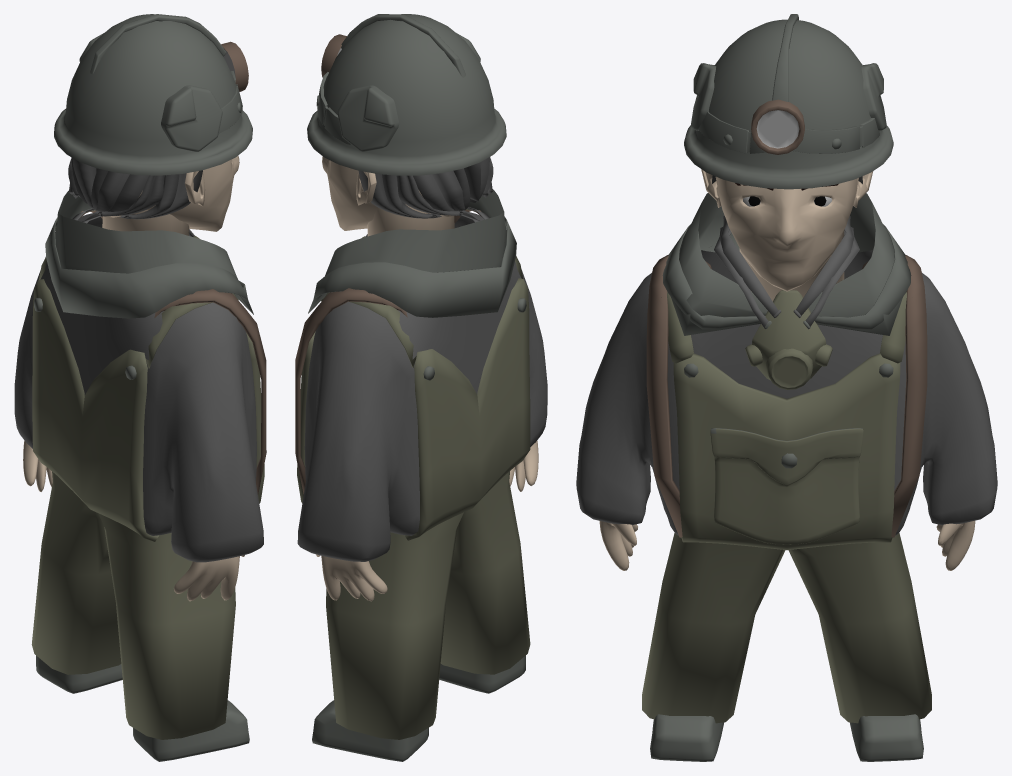
Rendered from character7.fbx.
3 views of the same model, side by side, from view 1: azimuth 30°, elevation 25°; view 2: azimuth 150°, elevation 25°; view 3: azimuth 270°, elevation 25° (orthographic). The views are drawn at different scales.
Parts seen in each view (by area): view 1: Cube.010, Cube.012, Sphere.002, Cube.009, Plane.010, Plane.006, Cube.011, Circle.008, Cube.022, Cube.016, Object_low, BezierCurve.010 (+10 smaller); view 2: Cube.010, Cube.012, Sphere.002, Cube.009, Plane.010, Plane.006, Cube.011, Circle.008, Cube.022, Cube.016, Object_low, BezierCurve.010 (+10 smaller); view 3: Cube.012, Cube.010, Cube.009, Sphere.002, Cube.015, Cube.016, Plane.006, Object_low, Cube.011, Plane.010, Sphere.004, Cube.025 (+8 smaller).
Boxes of the visible parts, x1=… form: Cube.010: x1=14, y1=212, x2=263, y2=562; Cube.012: x1=31, y1=471, x2=235, y2=739; Sphere.002: x1=54, y1=14, x2=252, y2=175; Cube.009: x1=32, y1=279, x2=264, y2=541; Plane.010: x1=45, y1=217, x2=247, y2=318; Plane.006: x1=55, y1=190, x2=253, y2=314; Cube.011: x1=36, y1=655, x2=249, y2=761; Circle.008: x1=79, y1=33, x2=222, y2=151; Cube.022: x1=23, y1=440, x2=244, y2=601; Cube.016: x1=79, y1=210, x2=266, y2=494; Object_low: x1=107, y1=156, x2=239, y2=231; BezierCurve.010: x1=68, y1=158, x2=148, y2=215; Cube.010: x1=297, y1=211, x2=547, y2=561; Cube.012: x1=326, y1=471, x2=530, y2=739; Sphere.002: x1=307, y1=14, x2=506, y2=175; Cube.009: x1=297, y1=278, x2=530, y2=540; Plane.010: x1=313, y1=216, x2=516, y2=317; Plane.006: x1=308, y1=189, x2=506, y2=313; Cube.011: x1=312, y1=655, x2=525, y2=761; Circle.008: x1=337, y1=33, x2=480, y2=151; Cube.022: x1=316, y1=441, x2=538, y2=601; Cube.016: x1=295, y1=209, x2=481, y2=494; Object_low: x1=322, y1=156, x2=453, y2=230; BezierCurve.010: x1=413, y1=158, x2=493, y2=215; Cube.012: x1=642, y1=533, x2=931, y2=723; Cube.010: x1=576, y1=250, x2=997, y2=535; Cube.009: x1=673, y1=353, x2=900, y2=550; Sphere.002: x1=684, y1=19, x2=893, y2=189; Cube.015: x1=710, y1=428, x2=863, y2=544; Cube.016: x1=646, y1=254, x2=927, y2=537; Plane.006: x1=671, y1=193, x2=902, y2=335; Object_low: x1=717, y1=177, x2=857, y2=291; Cube.011: x1=650, y1=714, x2=923, y2=761; Plane.010: x1=662, y1=224, x2=911, y2=329; Sphere.004: x1=698, y1=111, x2=879, y2=153; Cube.025: x1=752, y1=290, x2=826, y2=380.
Size of the model in its own units: 50.83 by 185 by 97.63.
